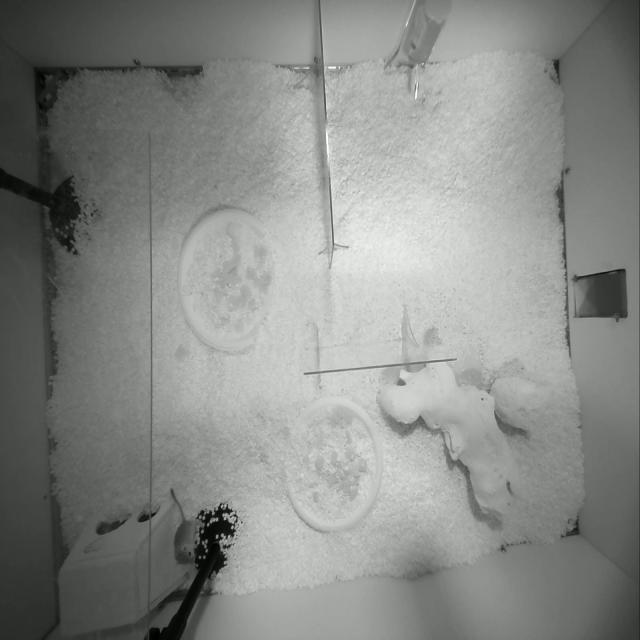pup_fluffy: (171, 489, 204, 564)
